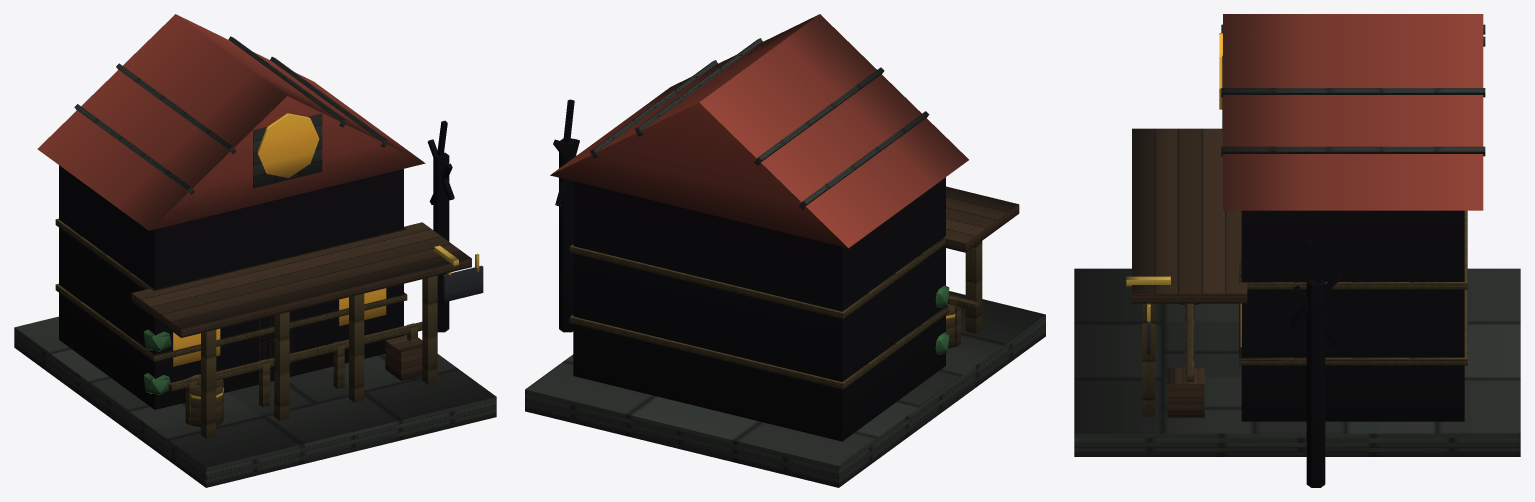
The model's file is shopfront.obj.
3 views of the same model, side by side, from view 1: azimuth 30°, elevation 25°; view 2: azimuth 150°, elevation 25°; view 3: azimuth 270°, elevation 25° (orthographic). The views are drawn at different scales.
Visible parts, largest first — view 1: shopfront; view 2: shopfront; view 3: shopfront.
Boxes of the visible parts, box(x1,y1,x2,y2) form: shopfront: box(14, 14, 496, 487); shopfront: box(525, 14, 1045, 487); shopfront: box(1074, 14, 1520, 487).
Size of the model in its own units: 2.49 by 2.14 by 2.4.
Materials: 1 (1 with a texture image).
